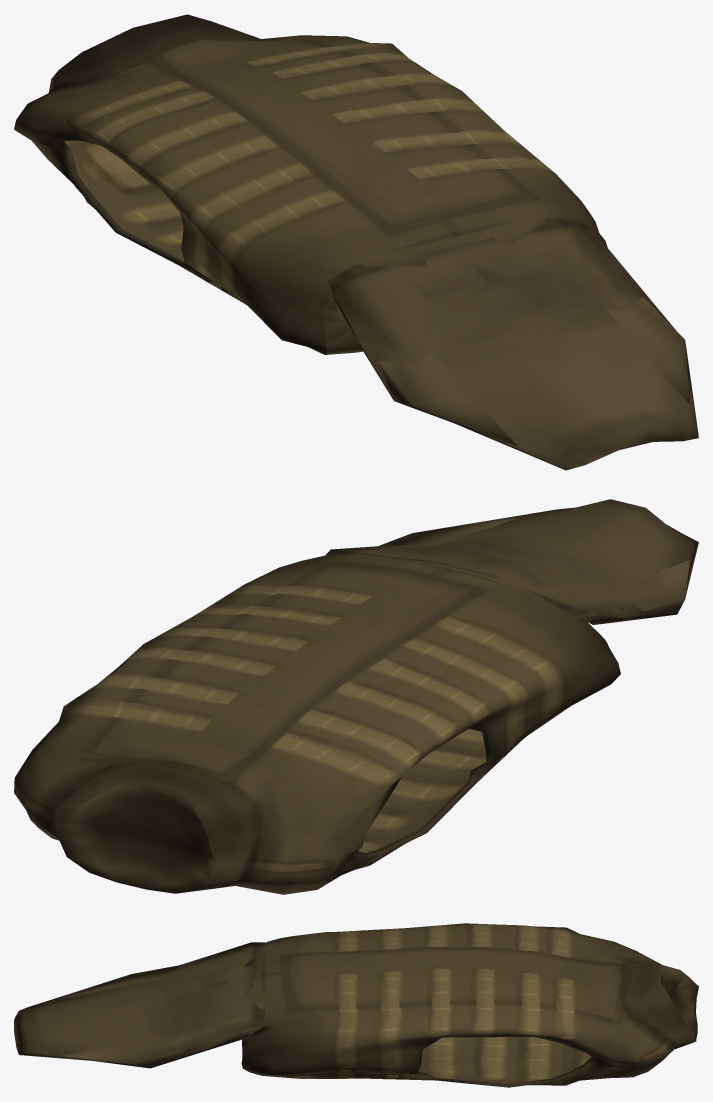
The model's file is Interceptor_s_WorldItem.fbx.
3 views of the same model, one above another, from view 1: azimuth 30°, elevation 25°; view 2: azimuth 150°, elevation 25°; view 3: azimuth 270°, elevation 25° (orthographic). The views are drawn at different scales.
Parts seen in each view (by area): view 1: INTERCEPTOR; view 2: INTERCEPTOR; view 3: INTERCEPTOR.
Boxes of the visible parts, x1=… form: INTERCEPTOR: x1=14, y1=14, x2=698, y2=470; INTERCEPTOR: x1=14, y1=499, x2=698, y2=894; INTERCEPTOR: x1=14, y1=923, x2=698, y2=1087.
Bounding box in the file's own units: 0.4961 × 0.0677 × 0.1924.
